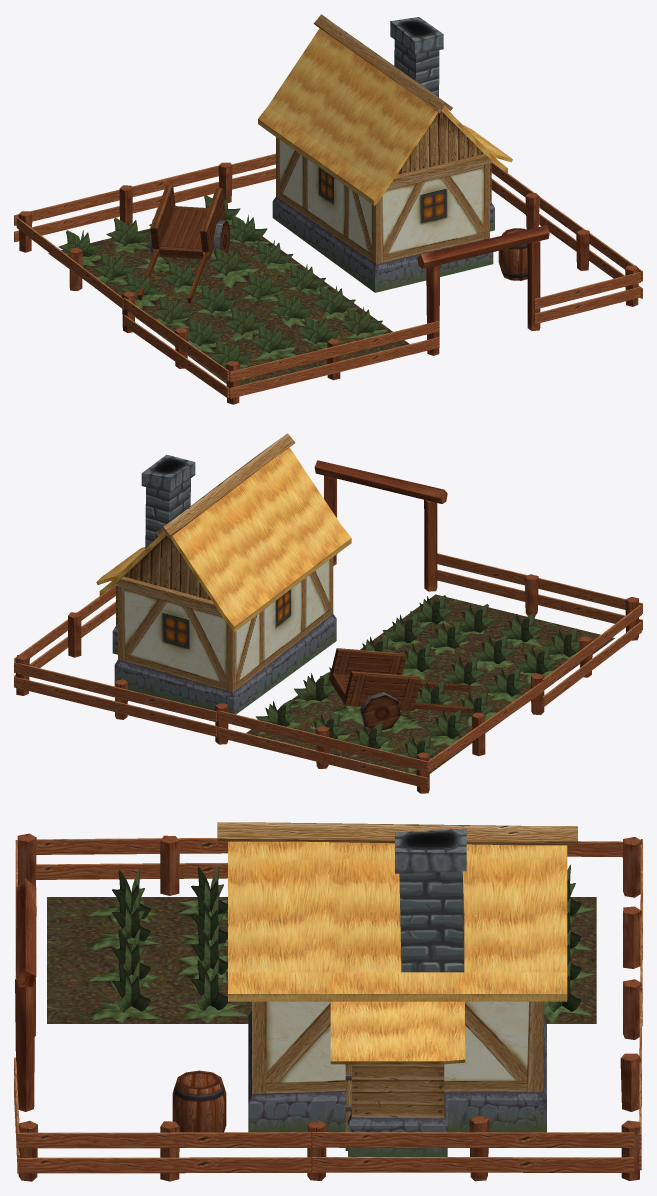
File: farm2_textured.FBX
3 renders of one model, top to bottom at view 1: azimuth 30°, elevation 25°; view 2: azimuth 150°, elevation 25°; view 3: azimuth 270°, elevation 25°, orthographic. The views are drawn at different scales.
Visible parts, largest first — view 1: house1; view 2: house1; view 3: house1.
Part boxes in pixels (<box>): house1: <box>14,14,642,404</box>; house1: <box>14,433,642,793</box>; house1: <box>14,822,642,1181</box>.
Bounding box in the file's own units: 1.78 × 0.8093 × 1.59.
